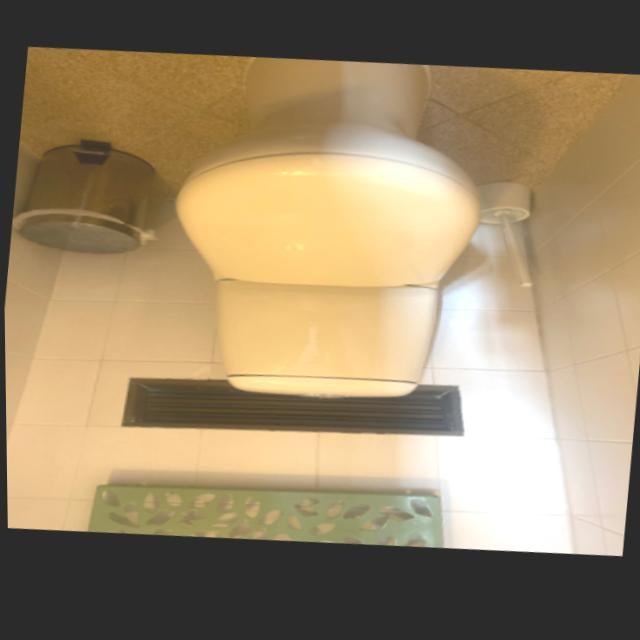toilet: (153, 42, 499, 425)
